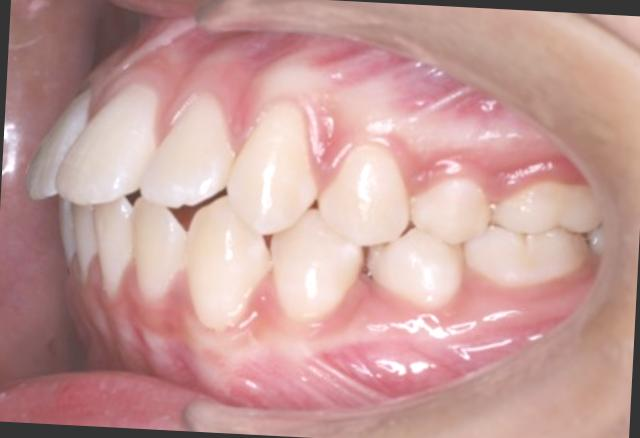canine class II 1/4: (175, 89, 372, 358)
molar class I: (463, 169, 602, 303)
